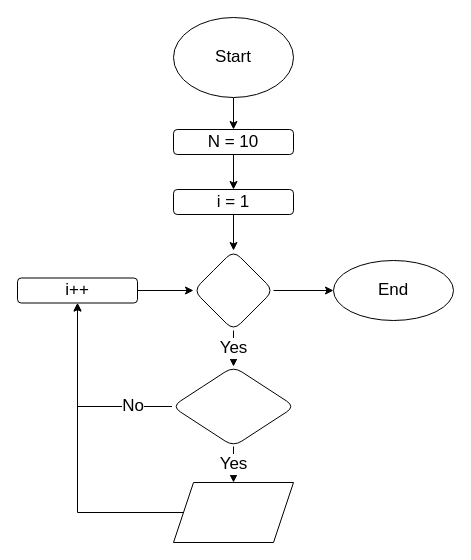
The diagram is 471 pixels wide and 560 high, and some of its shapes have lost their labels. Here are the shapes that lost their labels. From the top down, the centre of each, then its label:
point (233, 290): i <= N
point (233, 406): i mod 2 == 0
point (233, 512): print(i)
